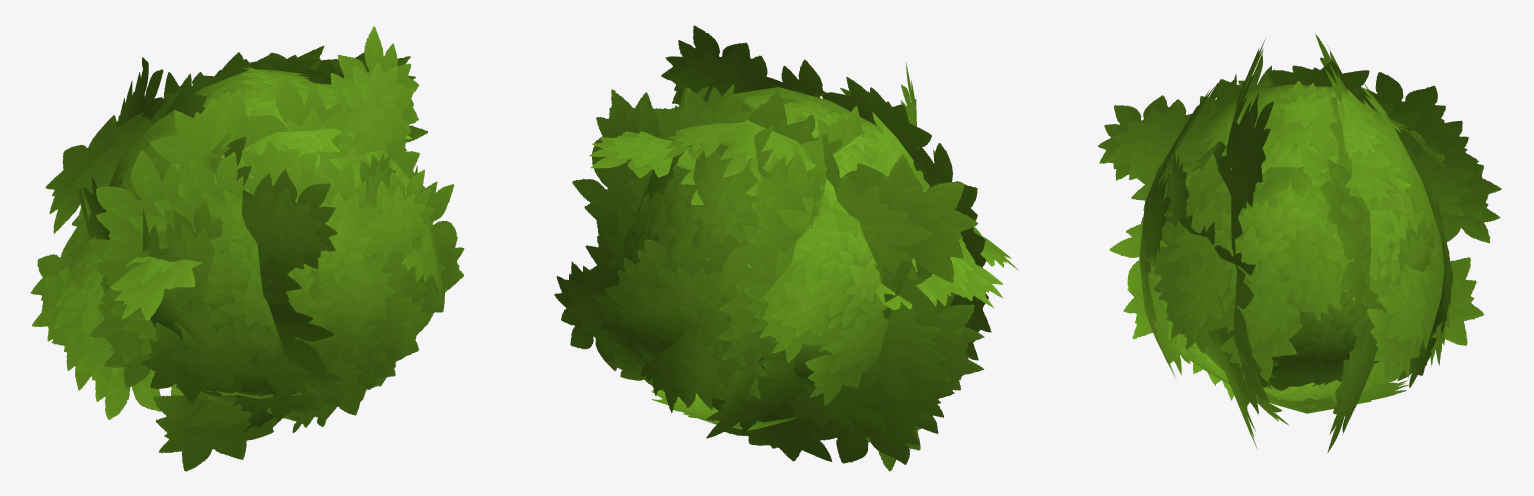
Rendered from bush 2.fbx.
3 renders of one model, left to right at view 1: azimuth 30°, elevation 25°; view 2: azimuth 150°, elevation 25°; view 3: azimuth 270°, elevation 25°, orthographic. The views are drawn at different scales.
Parts seen in each view (by area): view 1: pCube30; view 2: pCube30; view 3: pCube30.
Part boxes in pixels (bbox=[...]): pCube30: bbox=[30, 26, 464, 471]; pCube30: bbox=[554, 25, 1018, 471]; pCube30: bbox=[1097, 34, 1501, 452].
Bounding box in the file's own units: 7.43 × 6.6 × 6.41.
